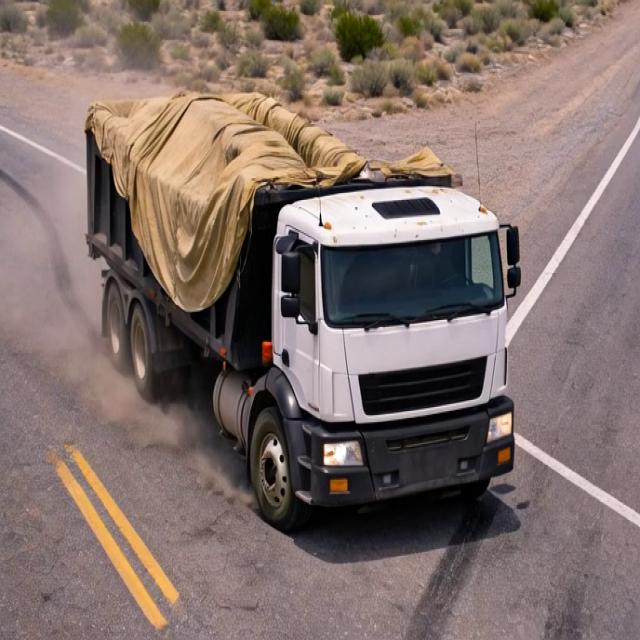trailer: (74, 69, 462, 220)
truck: (57, 25, 529, 538)
